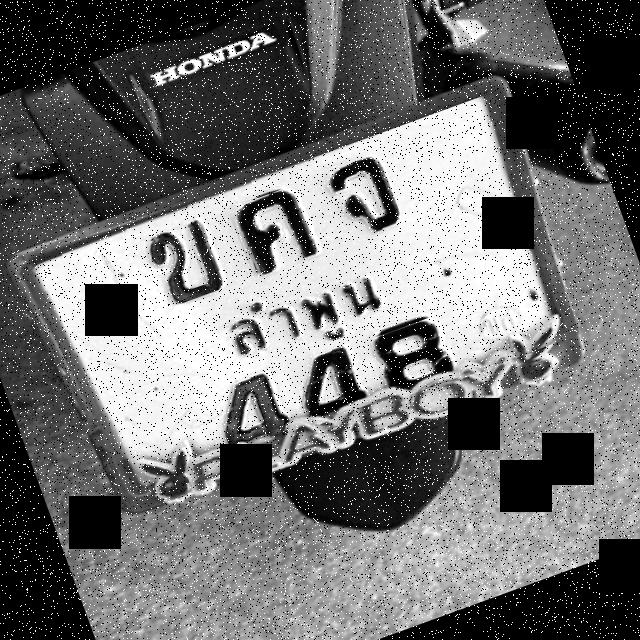letters: (230, 182, 333, 288), (315, 150, 407, 255), (134, 218, 236, 312), (208, 359, 302, 454), (291, 332, 382, 426), (374, 314, 462, 400)
license-plate: (30, 92, 569, 492)
province: (203, 248, 407, 380)
